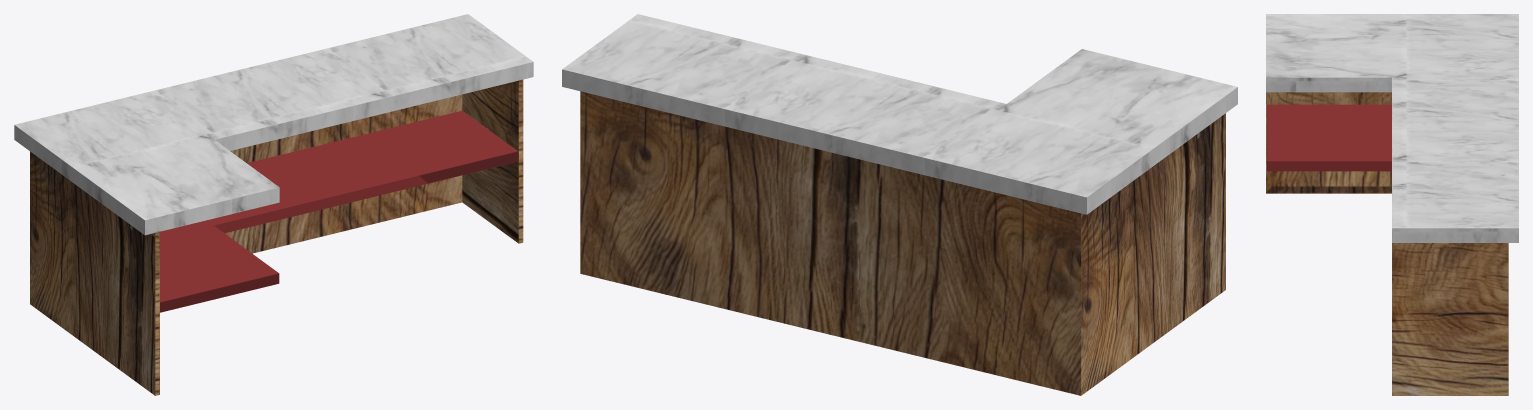
The model's file is Counter table.fbx.
The picture shows the model from 3 angles, left to right: view 1: azimuth 30°, elevation 25°; view 2: azimuth 150°, elevation 25°; view 3: azimuth 270°, elevation 25°; orthographic projection. The views are drawn at different scales.
Parts seen in each view (by area): view 1: Counter; view 2: Counter; view 3: Counter.
Part boxes in pixels (x1,y1,x2,y2): Counter: (14,14,533,395); Counter: (562,14,1237,395); Counter: (1266,14,1518,395).
Bounding box in the file's own units: 1779 × 667 × 887.
Materials: 1 (1 with a texture image).
